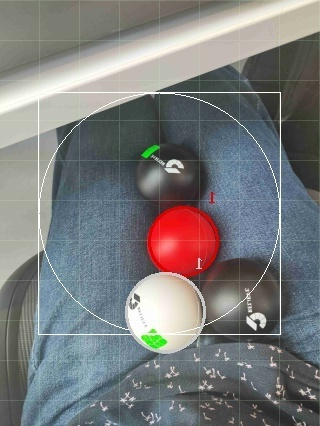Pelota blanca: (125, 270, 207, 355)
Pelota roja: (146, 204, 220, 278)
